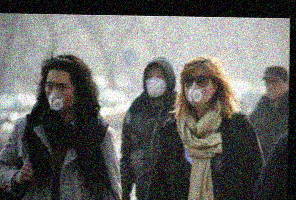with_mask: (43, 76, 74, 111), (184, 71, 213, 106), (144, 69, 166, 98)
without_mask: (263, 75, 284, 99)
